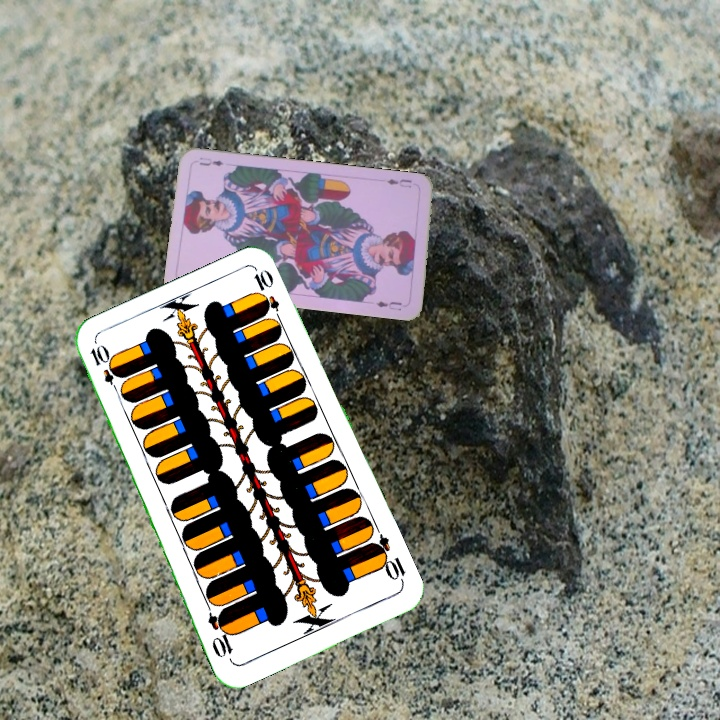E10: (366, 531, 408, 587), (86, 341, 124, 398)
EU: (383, 175, 414, 190)
